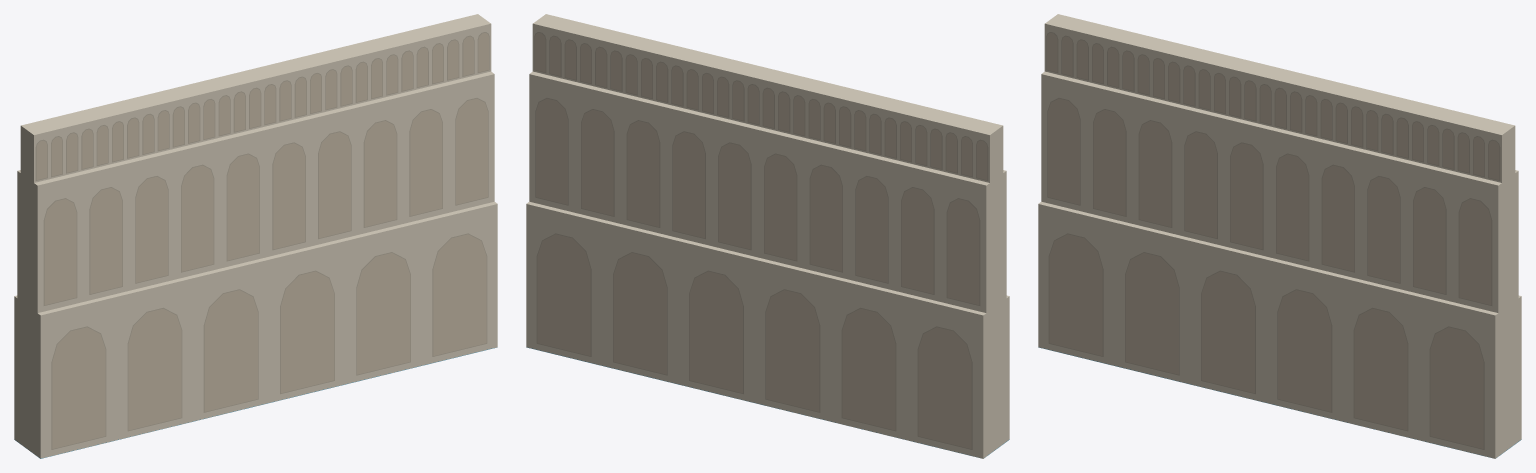
Rendered from aqueduc_romain.glb.
3 views of the same model, side by side, from view 1: azimuth 30°, elevation 25°; view 2: azimuth 150°, elevation 25°; view 3: azimuth 330°, elevation 25° (orthographic).
Parts seen in each view (by area): view 1: aqueduc_romain; view 2: aqueduc_romain; view 3: aqueduc_romain.
Boxes of the visible parts, left/top/right/bottom form: aqueduc_romain: left=14, top=14, right=497, bottom=458; aqueduc_romain: left=526, top=14, right=1009, bottom=458; aqueduc_romain: left=1038, top=14, right=1521, bottom=458.
Bounding box in the file's own units: 60 × 40 × 6.1.
Materials: 1 (1 with a texture image).
